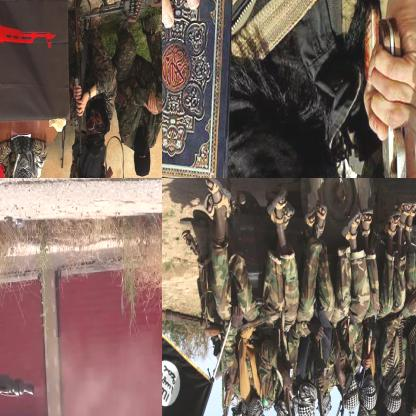rifle: (350, 21, 415, 177), (77, 0, 161, 33), (206, 306, 284, 338), (275, 327, 301, 415), (308, 327, 334, 415), (72, 16, 86, 154), (72, 165, 149, 177), (217, 382, 236, 415)
